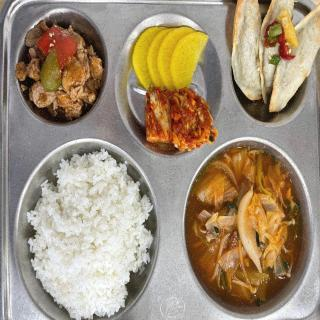Nasi: (29, 152, 152, 308)
